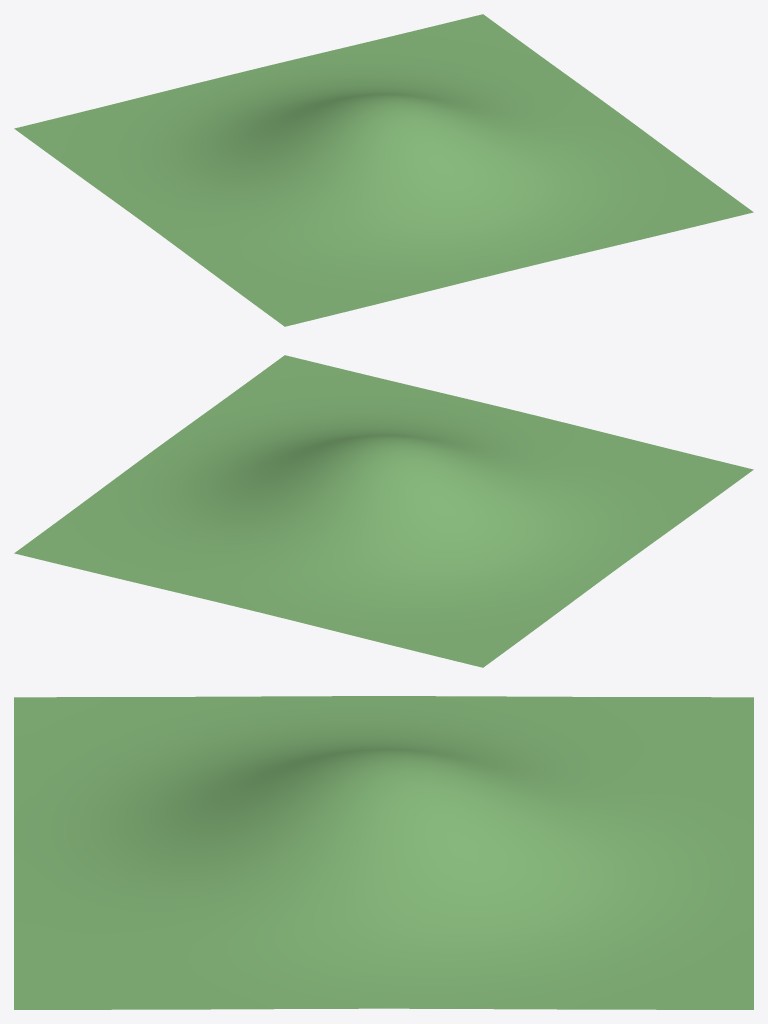
File: map_01.glb
The picture shows the model from 3 angles, top to bottom: view 1: azimuth 30°, elevation 25°; view 2: azimuth 150°, elevation 25°; view 3: azimuth 270°, elevation 25°; orthographic projection. The views are drawn at different scales.
Parts seen in each view (by area): view 1: WALKABLE_map_01; view 2: WALKABLE_map_01; view 3: WALKABLE_map_01.
Part boxes in pixels (x1,y1,x2,y2): WALKABLE_map_01: (14,14,753,326); WALKABLE_map_01: (14,355,753,667); WALKABLE_map_01: (14,696,753,1009).
Size of the model in its own units: 44 by 5.5 by 44.
